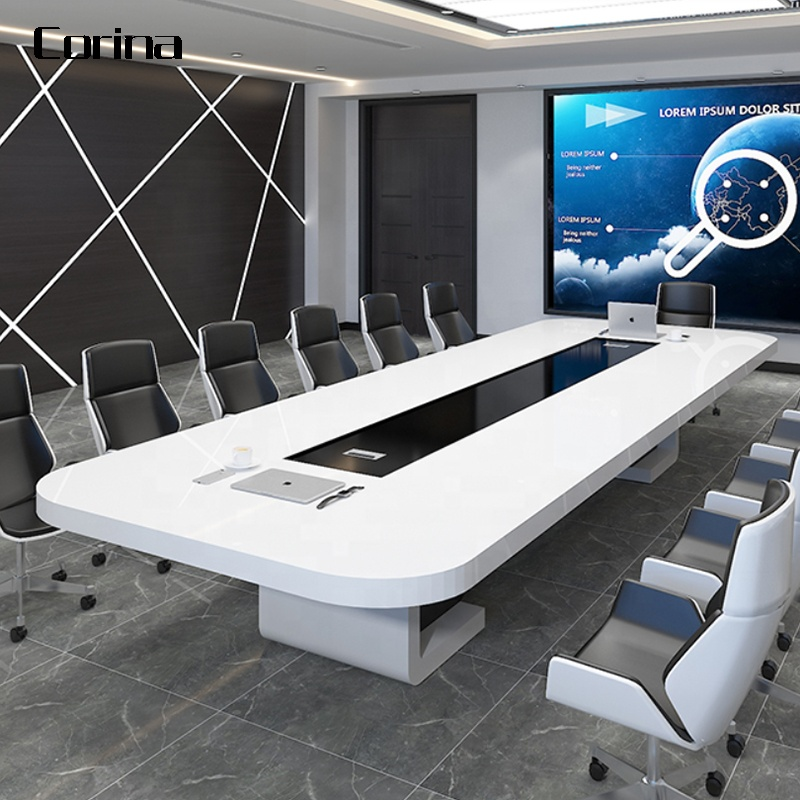conference_table: (35, 309, 778, 689)
